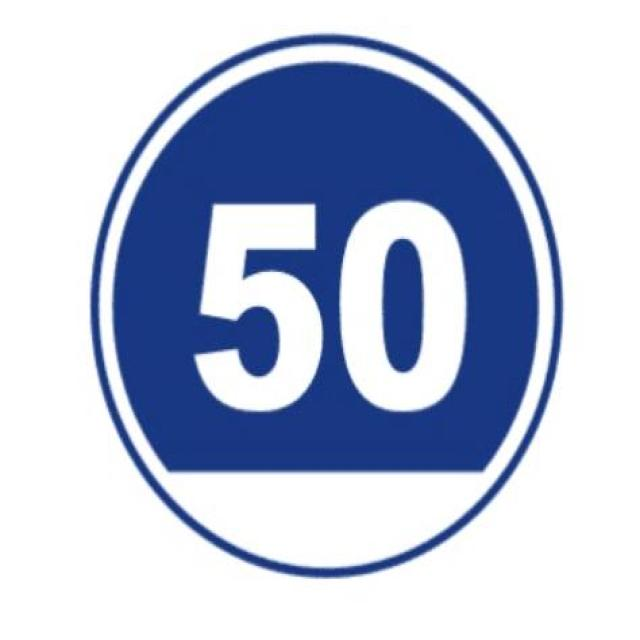speed limit 50: (88, 32, 561, 581)
